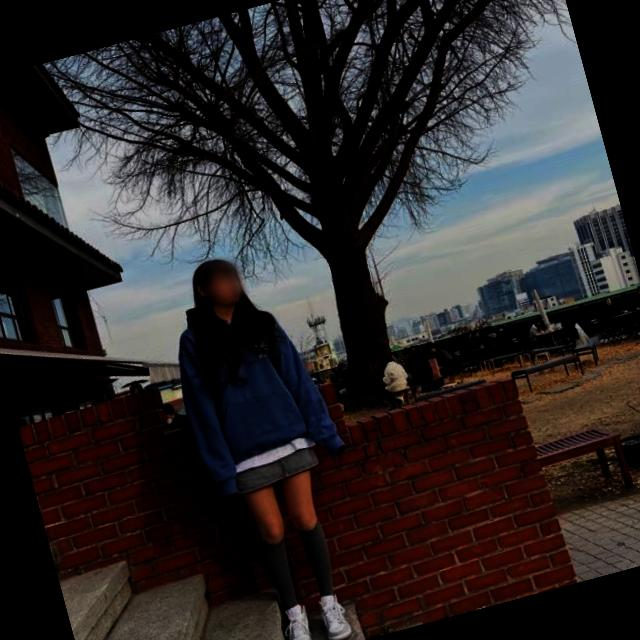hoodies: (167, 286, 356, 502)
skirt: (228, 440, 324, 496)
